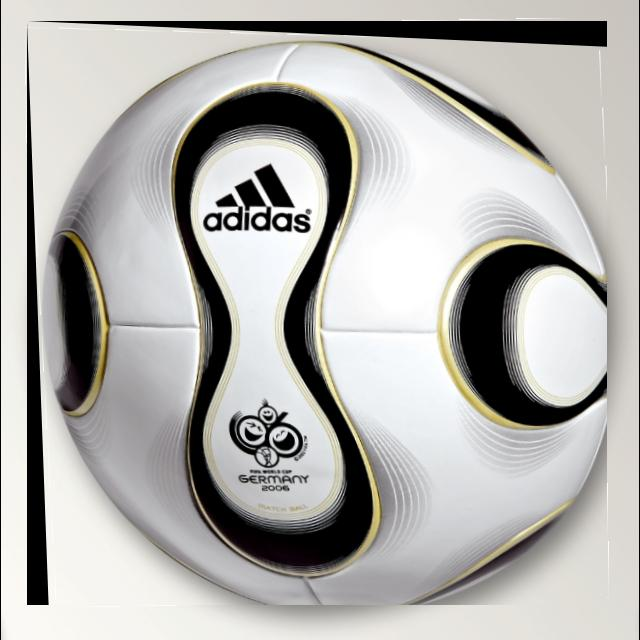Football: (27, 21, 607, 605)
